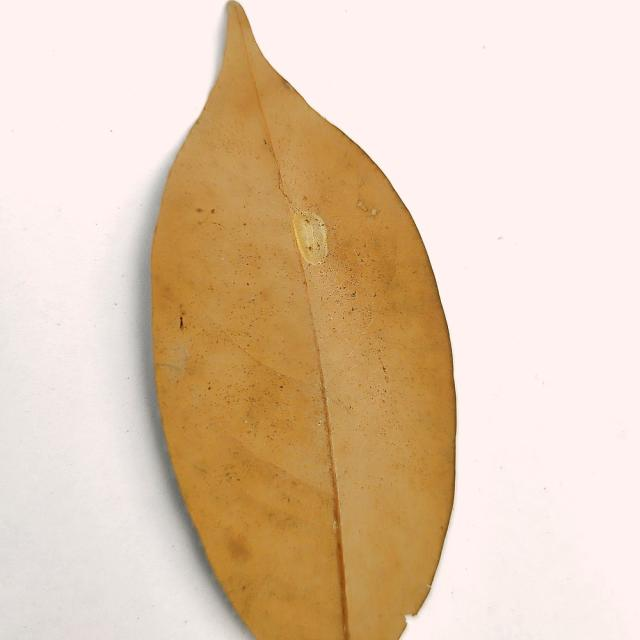Dry_Leaf-Lychee: (150, 3, 458, 639)
